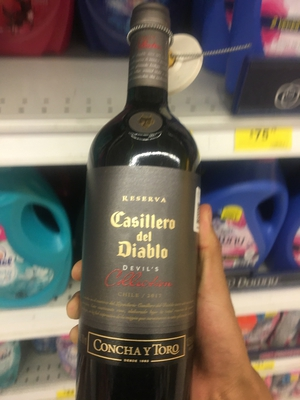casillero del diablo devils collection rojo: (77, 15, 217, 383)
